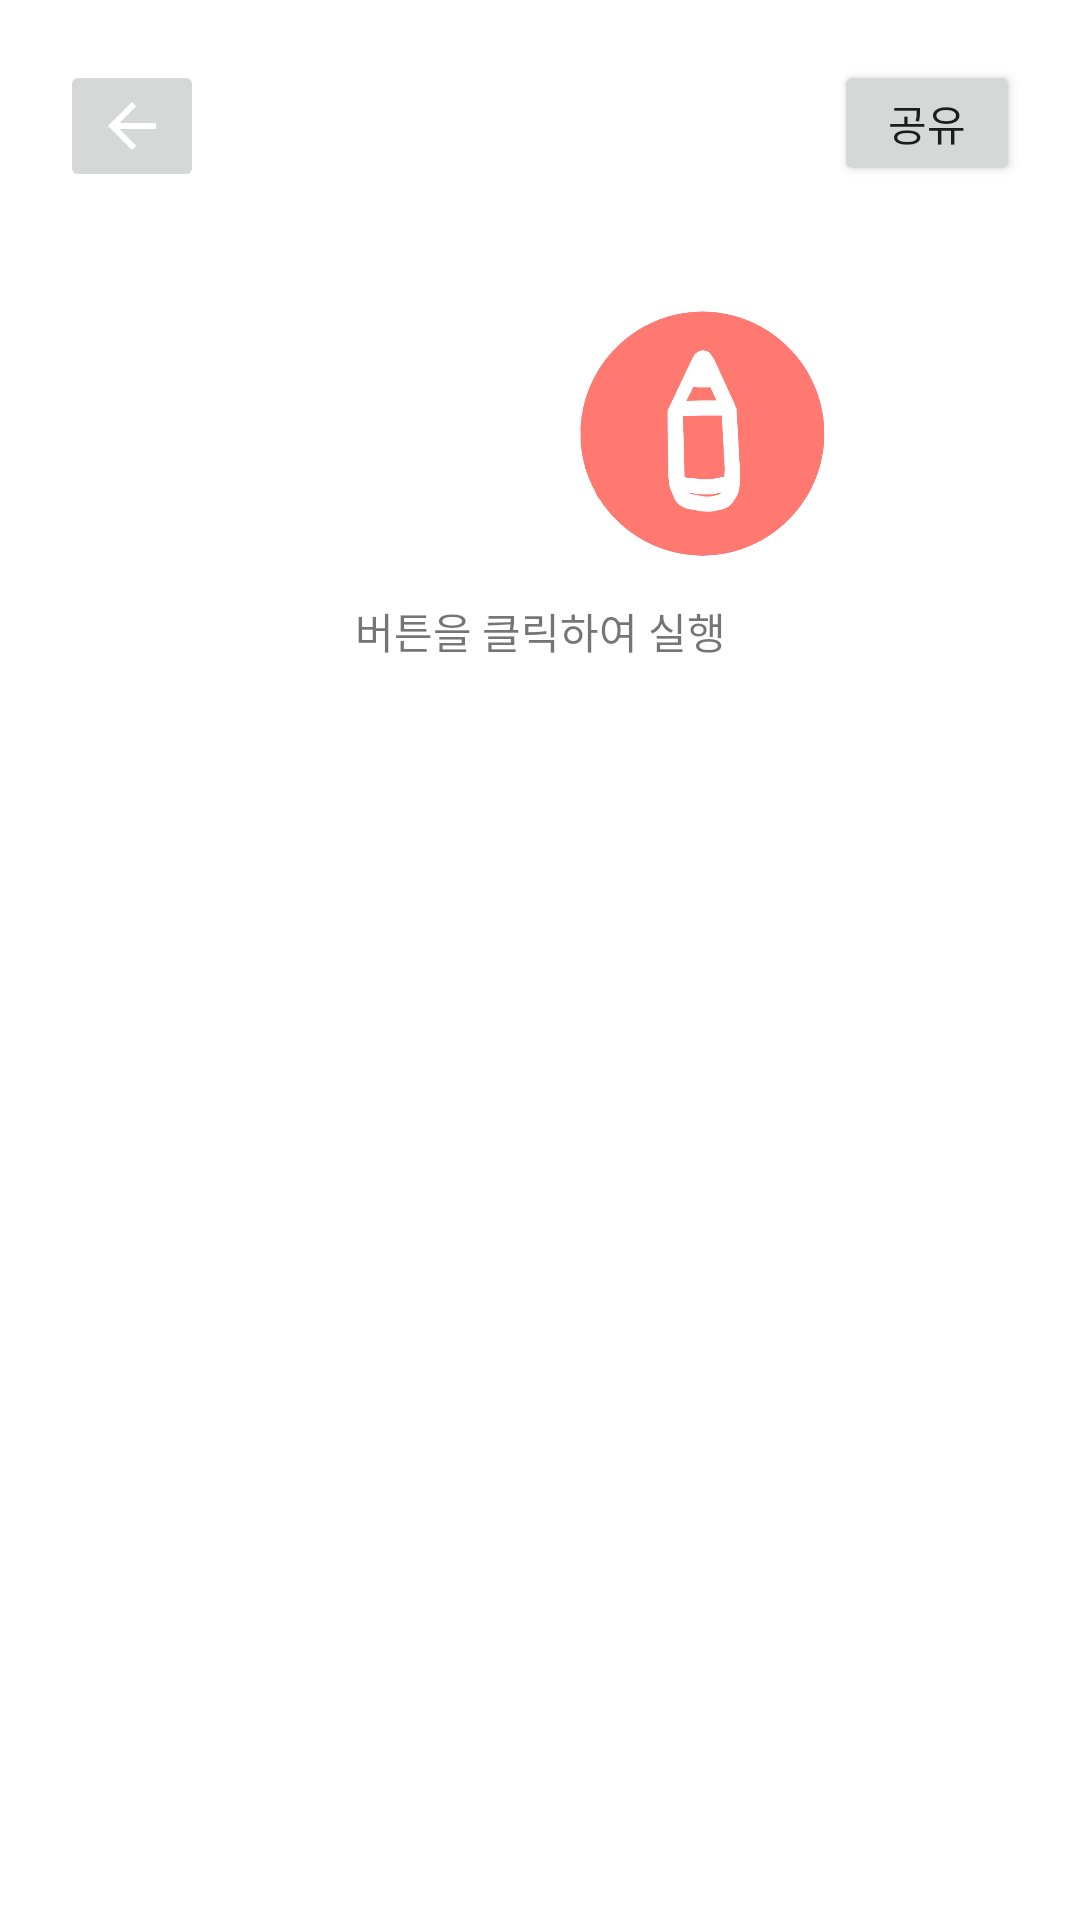

Screen size 1080×1920. Icon name, then its box in pixels as (x1, y1, x2, y2):
pen: (580, 311, 824, 556)
